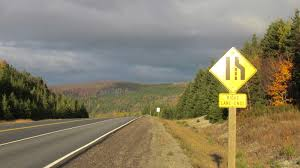laneEnds: (207, 44, 260, 93)
